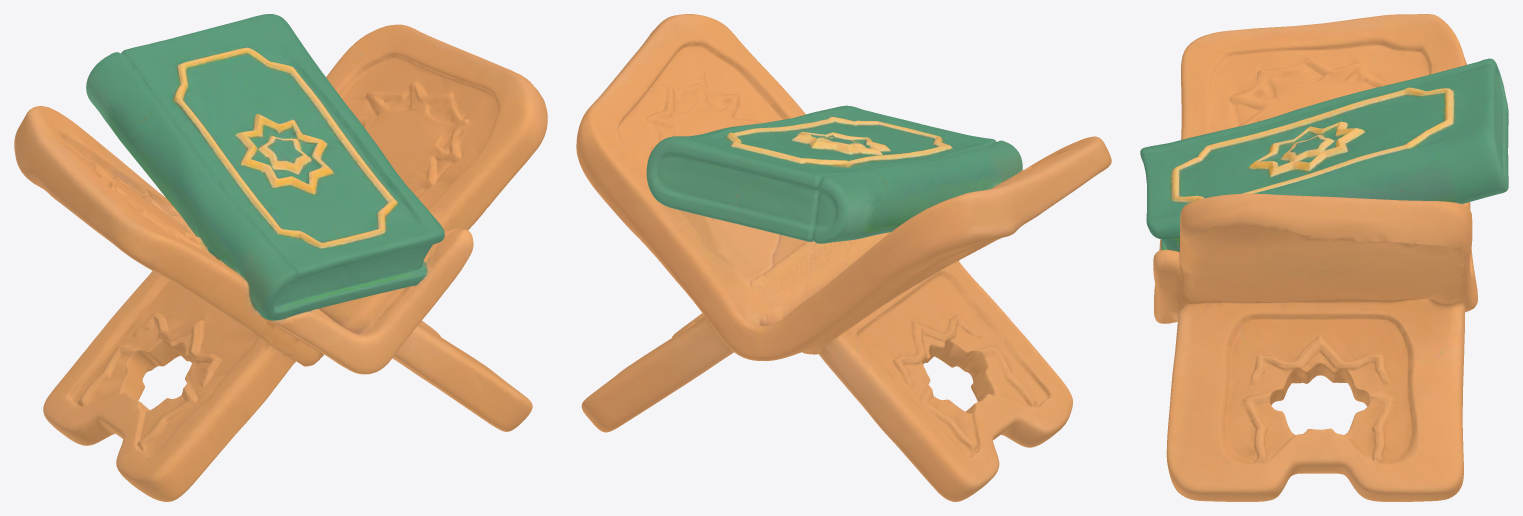
The model's file is rehal-quran.glb.
3 views of the same model, side by side, from view 1: azimuth 30°, elevation 25°; view 2: azimuth 150°, elevation 25°; view 3: azimuth 270°, elevation 25° (orthographic).
Bounding box in the file's own units: 1.9 × 1.39 × 1.42.
Materials: 1 (1 with a texture image).
